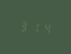four: (41, 20, 51, 35)
one: (30, 19, 40, 34)
three: (18, 18, 28, 33)
